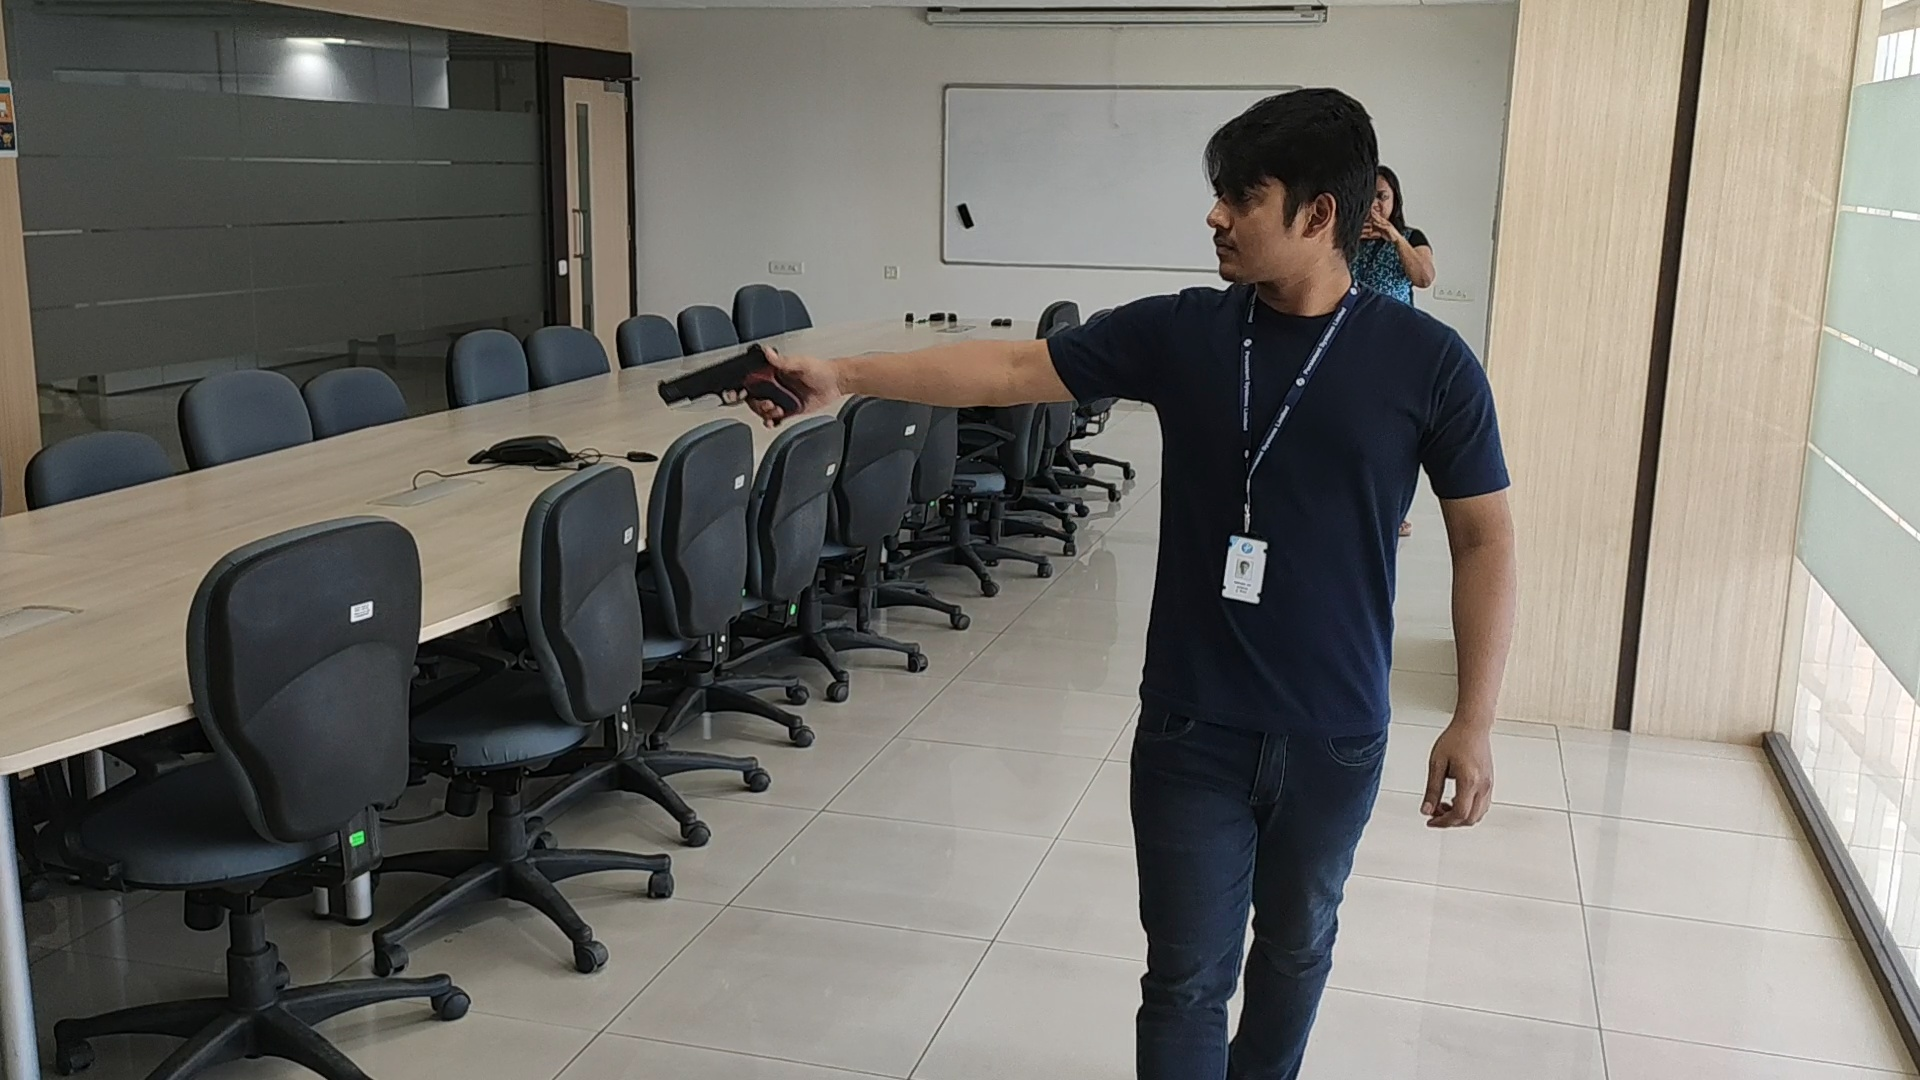gun: (651, 344, 804, 423)
